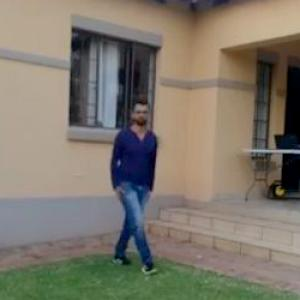follow: (98, 102, 153, 268)
